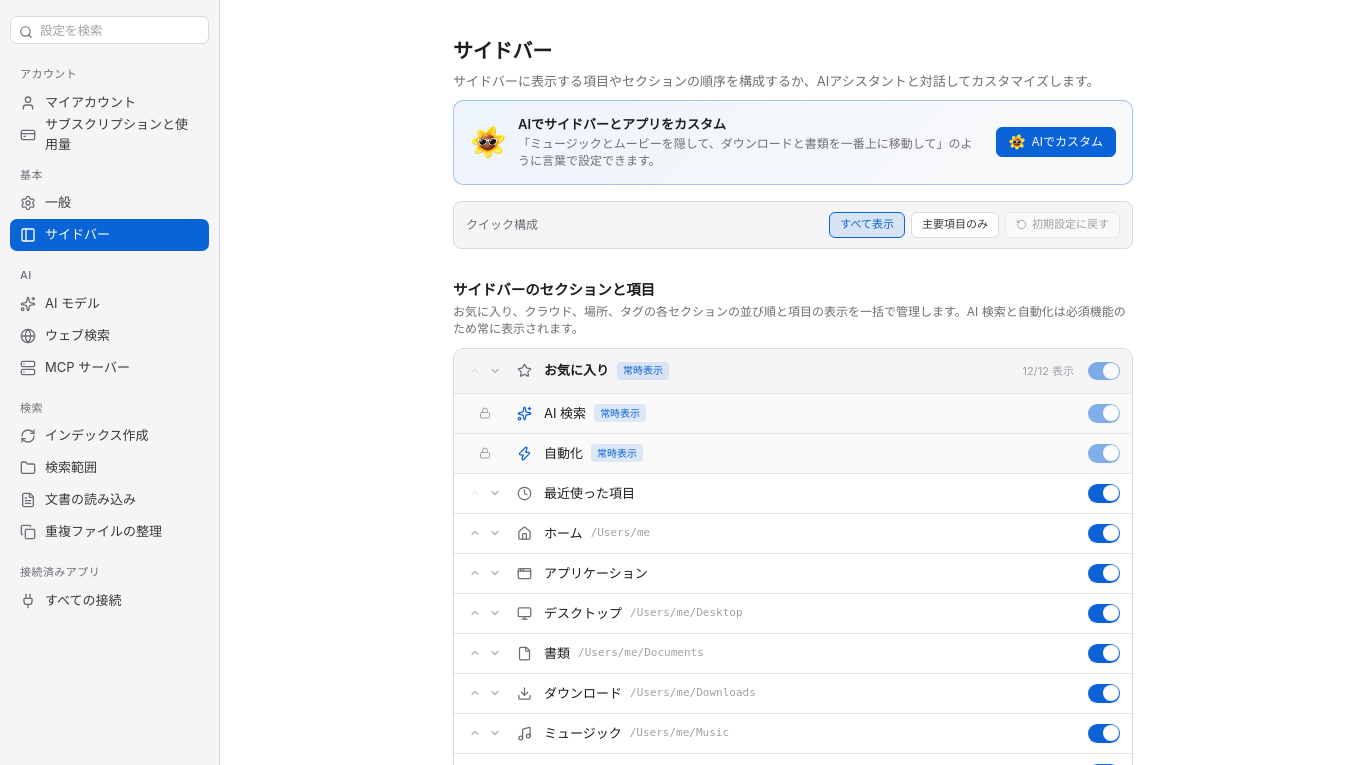
Test: Settings → 사이드바 (Sidebar customization & AI Customizer modal) › renders fully localized Sidebar settings and AI Customizer modal in ja
Expected: the heading with class "linear-title" reads "サイドバー", [453,39,552,63]
Click the button "AIでカスタム" at (1056, 142), box [996,127,1116,157]
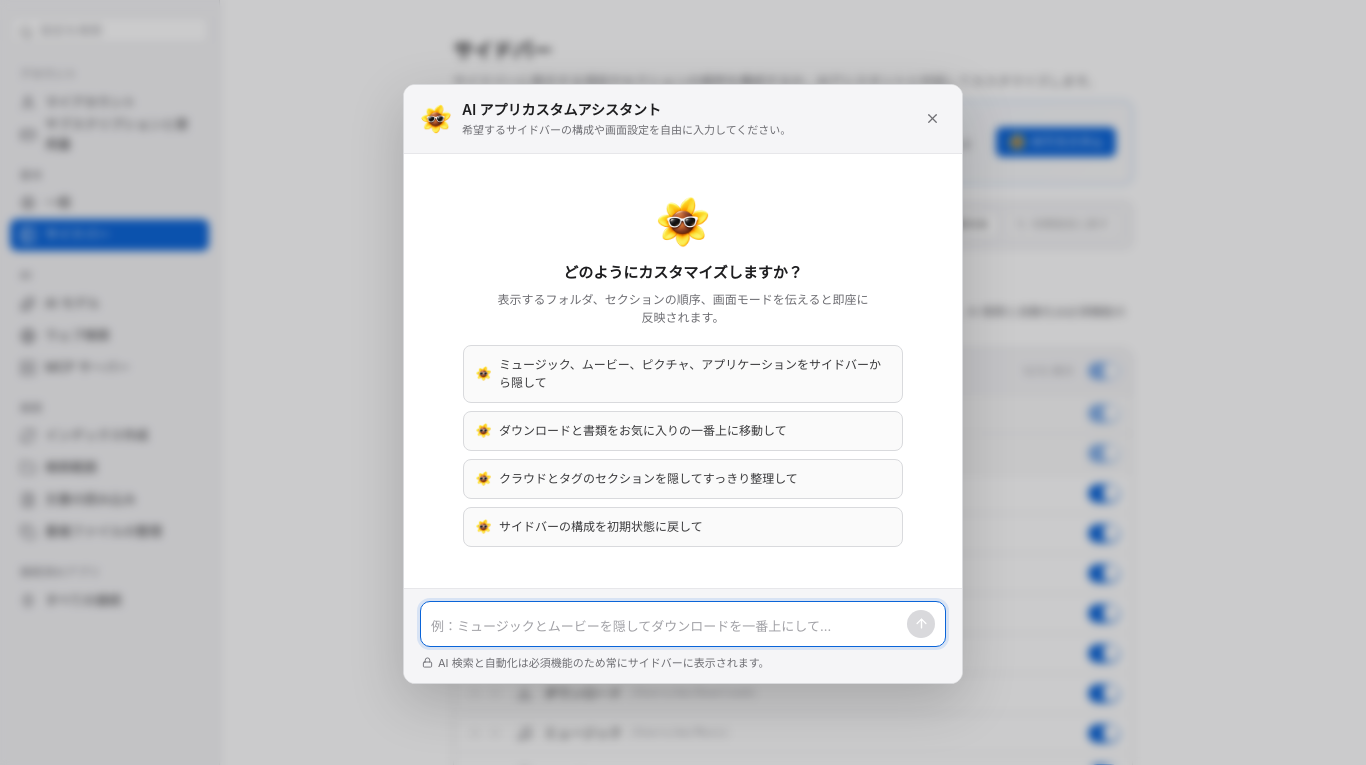
Expected: the heading with class "customizer-modal__title" reads "AI アプリカスタムアシスタント", [462,101,661,118]
